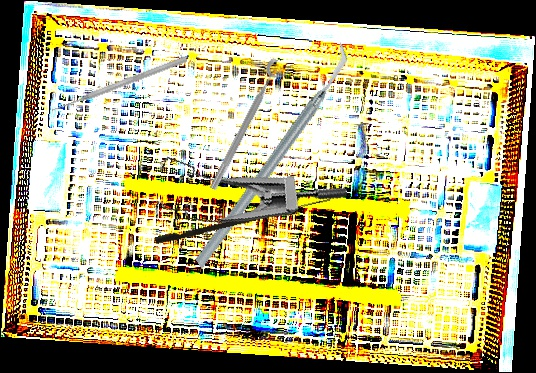Chopper: (137, 40, 405, 271)
Fixation Ring: (206, 57, 292, 196)
Hook Surgical: (154, 191, 331, 247)
Pusher: (50, 54, 188, 115)
Speculum: (139, 108, 350, 255)
